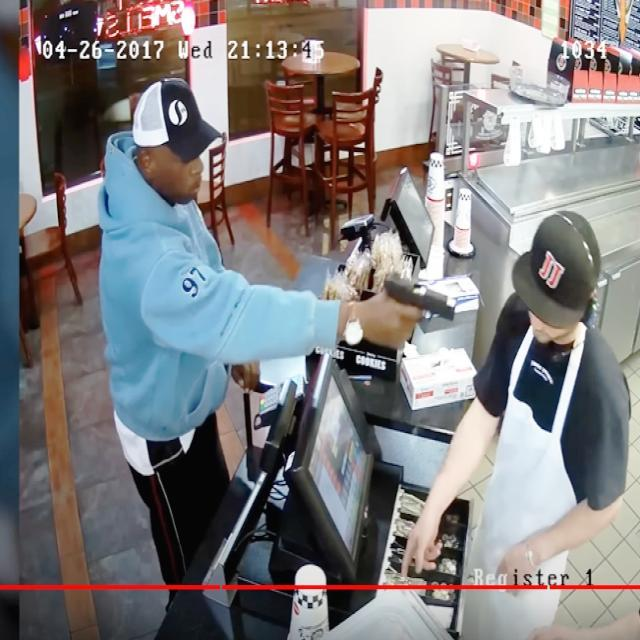Gun: (367, 262, 465, 345)
